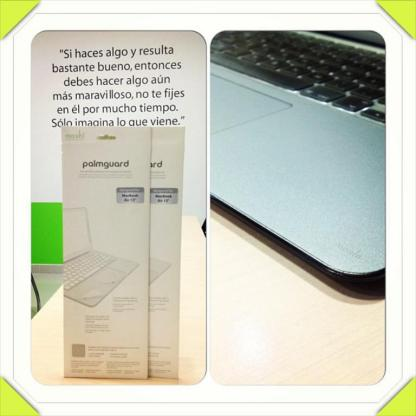board: (208, 31, 387, 290), (63, 208, 138, 307)
